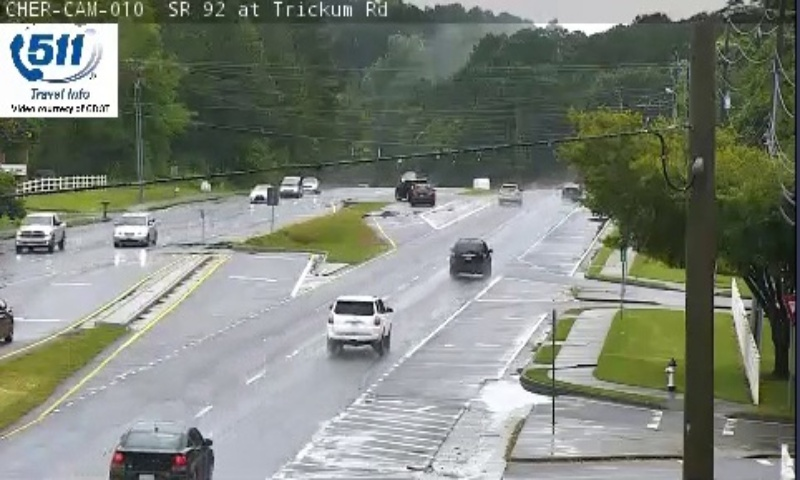car: (107, 424, 214, 480), (326, 297, 391, 346), (449, 238, 491, 276)
